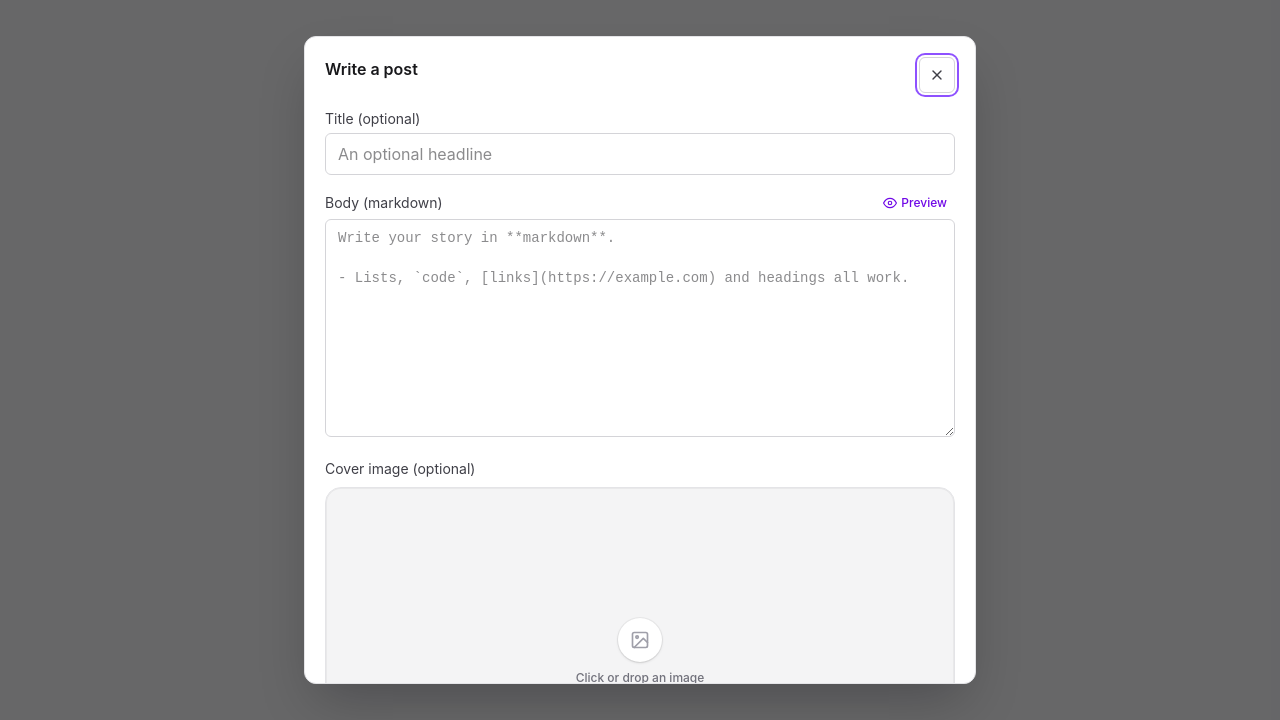
Test: PostComposerDialog server failures › keeps the dialog open and shows the server's reason
In the text box labelled "Body (markdown)": (640, 328) [325, 219, 955, 437], type "Hello world"
(page scrolled)
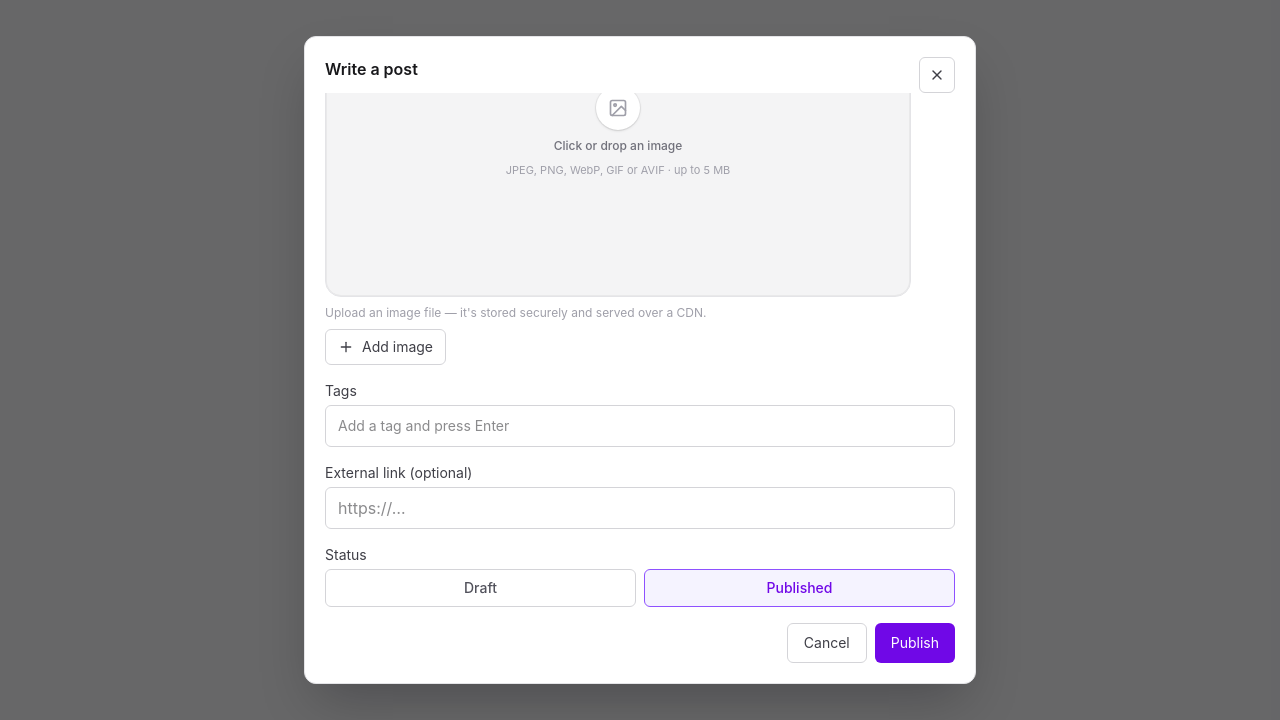
Click the button "Publish": (915, 643) [875, 623, 955, 663]
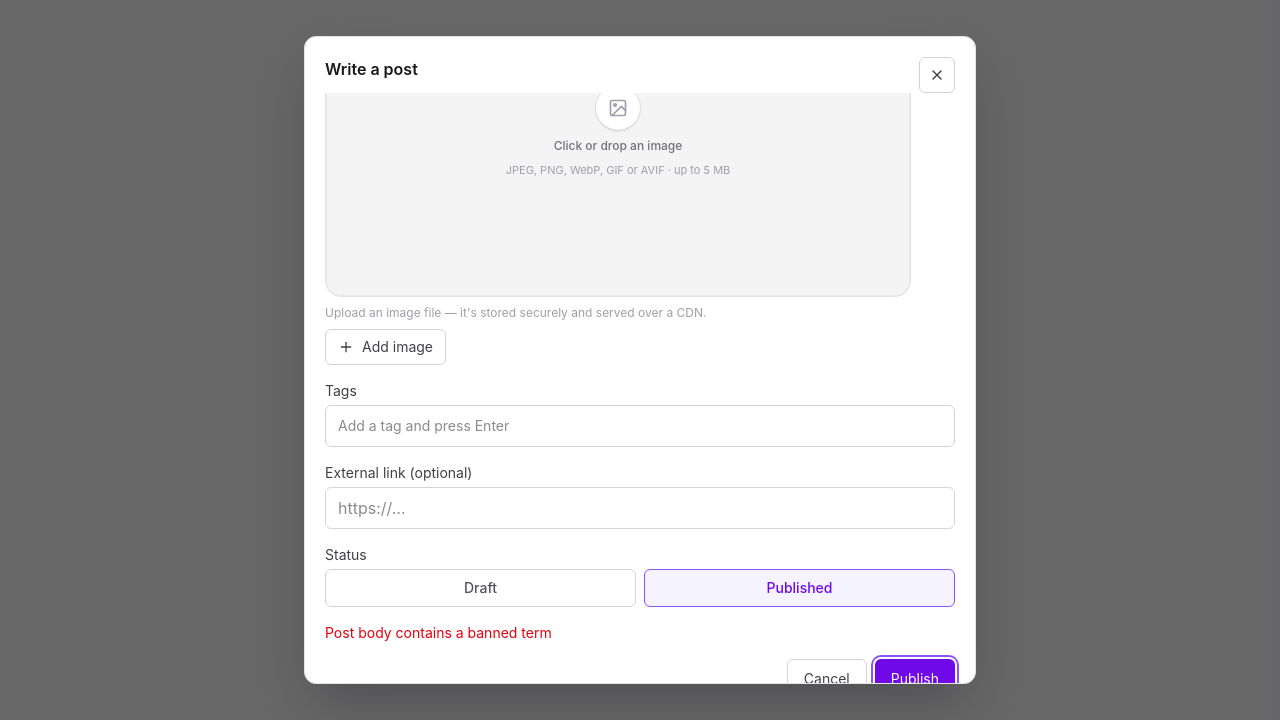
expect the text "Post body contains a banned term" is shown: met, box [325, 624, 552, 641]
